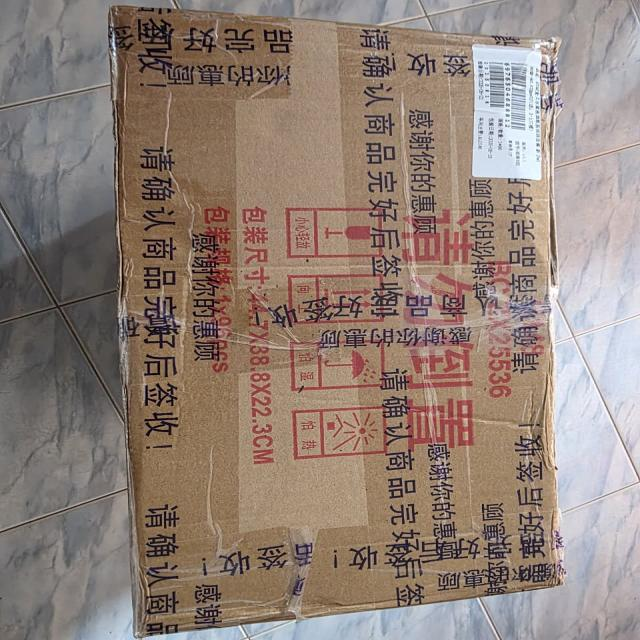carton_box: (95, 3, 581, 640)
export_mark_label: (452, 34, 564, 187)
fragile_label: (276, 200, 391, 263)
keep_dry_label: (282, 330, 398, 406)
protect_from_heat_label: (287, 398, 400, 464)
this_side_up_label: (280, 271, 393, 328)
